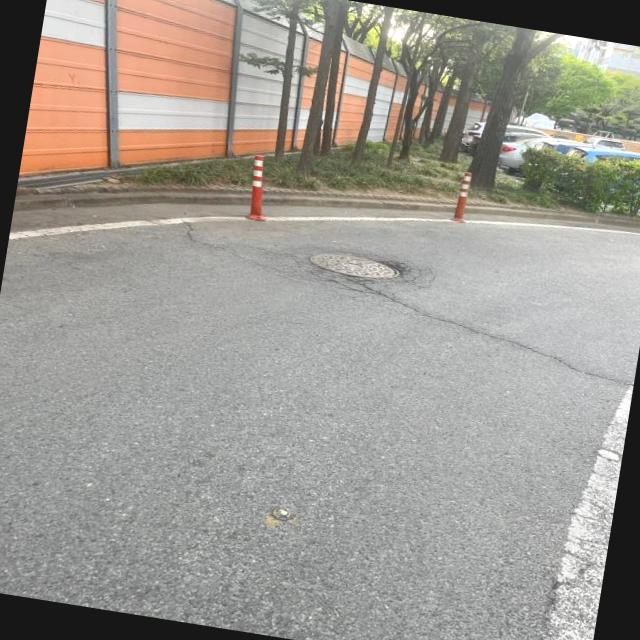manhole: (288, 235, 442, 308)
